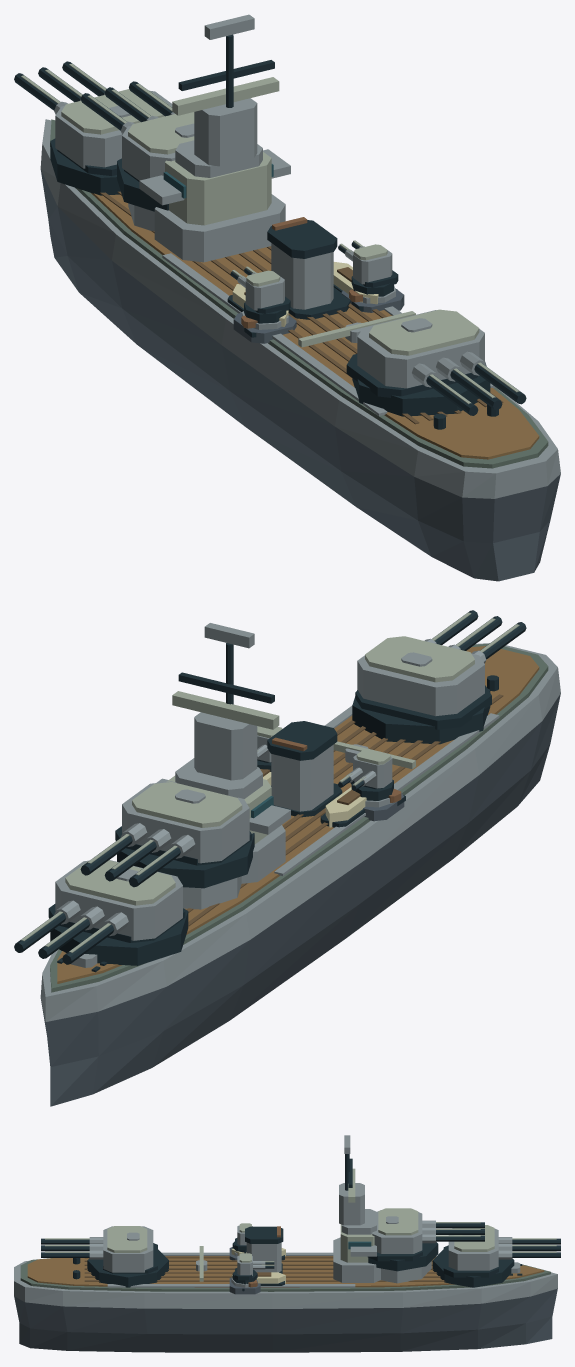
Rendered from historic-scharnhorst.glb.
The picture shows the model from 3 angles, top to bottom: view 1: azimuth 30°, elevation 25°; view 2: azimuth 150°, elevation 25°; view 3: azimuth 270°, elevation 25°; orthographic projection. The views are drawn at different scales.
Visible parts, largest first — view 1: historic-scharnhorst-historic-scharnhorst-geometry, historic-scharnhorst-part_bridge.033-geometry, historic-scharnhorst-turret_main_2.022-geometry, historic-scharnhorst-turret_main_0.023-geometry, historic-scharnhorst-turret_main_1.022-geometry, historic-scharnhorst-historic_funnel_0.034-geometry, historic-scharnhorst-turret_aa_aa-port.035-geometry, historic-scharnhorst-turret_aa_aa-starboard.033-geometry, historic-scharnhorst-historic_catapult_0.007-geometry, historic-scharnhorst-part_aa-port.035-geometry, historic-scharnhorst-part_aa-starboard.033-geometry; view 2: historic-scharnhorst-historic-scharnhorst-geometry, historic-scharnhorst-turret_main_2.022-geometry, historic-scharnhorst-turret_main_1.022-geometry, historic-scharnhorst-part_bridge.033-geometry, historic-scharnhorst-turret_main_0.023-geometry, historic-scharnhorst-historic_funnel_0.034-geometry, historic-scharnhorst-turret_aa_aa-port.035-geometry, historic-scharnhorst-part_aa-port.035-geometry, historic-scharnhorst-turret_aa_aa-starboard.033-geometry, historic-scharnhorst-historic_catapult_0.007-geometry; view 3: historic-scharnhorst-historic-scharnhorst-geometry, historic-scharnhorst-turret_main_2.022-geometry, historic-scharnhorst-turret_main_0.023-geometry, historic-scharnhorst-turret_main_1.022-geometry, historic-scharnhorst-part_bridge.033-geometry, historic-scharnhorst-historic_funnel_0.034-geometry, historic-scharnhorst-turret_aa_aa-starboard.033-geometry, historic-scharnhorst-part_aa-starboard.033-geometry, historic-scharnhorst-turret_aa_aa-port.035-geometry.
Boxes of the visible parts, x1,y1,x2,y2 form: historic-scharnhorst-historic-scharnhorst-geometry: [40, 119, 560, 581]; historic-scharnhorst-part_bridge.033-geometry: [139, 14, 290, 262]; historic-scharnhorst-turret_main_2.022-geometry: [346, 309, 526, 416]; historic-scharnhorst-turret_main_0.023-geometry: [14, 61, 172, 195]; historic-scharnhorst-turret_main_1.022-geometry: [80, 81, 194, 211]; historic-scharnhorst-historic_funnel_0.034-geometry: [267, 217, 350, 319]; historic-scharnhorst-turret_aa_aa-port.035-geometry: [230, 266, 290, 323]; historic-scharnhorst-turret_aa_aa-starboard.033-geometry: [338, 240, 398, 296]; historic-scharnhorst-historic_catapult_0.007-geometry: [298, 311, 415, 347]; historic-scharnhorst-part_aa-port.035-geometry: [233, 311, 296, 343]; historic-scharnhorst-part_aa-starboard.033-geometry: [341, 285, 404, 312]; historic-scharnhorst-historic-scharnhorst-geometry: [40, 643, 560, 1106]; historic-scharnhorst-turret_main_2.022-geometry: [352, 610, 526, 744]; historic-scharnhorst-turret_main_1.022-geometry: [80, 781, 254, 888]; historic-scharnhorst-part_bridge.033-geometry: [156, 623, 290, 883]; historic-scharnhorst-turret_main_0.023-geometry: [14, 860, 188, 965]; historic-scharnhorst-historic_funnel_0.034-geometry: [267, 721, 342, 817]; historic-scharnhorst-turret_aa_aa-port.035-geometry: [338, 749, 393, 800]; historic-scharnhorst-part_aa-port.035-geometry: [363, 788, 404, 821]; historic-scharnhorst-turret_aa_aa-starboard.033-geometry: [257, 726, 282, 771]; historic-scharnhorst-historic_catapult_0.007-geometry: [333, 741, 415, 769]; historic-scharnhorst-historic-scharnhorst-geometry: [14, 1248, 557, 1352]; historic-scharnhorst-turret_main_2.022-geometry: [41, 1226, 168, 1287]; historic-scharnhorst-turret_main_0.023-geometry: [432, 1225, 560, 1287]; historic-scharnhorst-turret_main_1.022-geometry: [368, 1208, 484, 1271]; historic-scharnhorst-part_bridge.033-geometry: [333, 1135, 380, 1282]; historic-scharnhorst-historic_funnel_0.034-geometry: [245, 1226, 283, 1273]; historic-scharnhorst-turret_aa_aa-starboard.033-geometry: [232, 1253, 274, 1284]; historic-scharnhorst-part_aa-starboard.033-geometry: [229, 1277, 260, 1294]; historic-scharnhorst-turret_aa_aa-port.035-geometry: [232, 1223, 252, 1253].
Size of the model in its own units: 0.9056 by 1.92 by 4.82.
